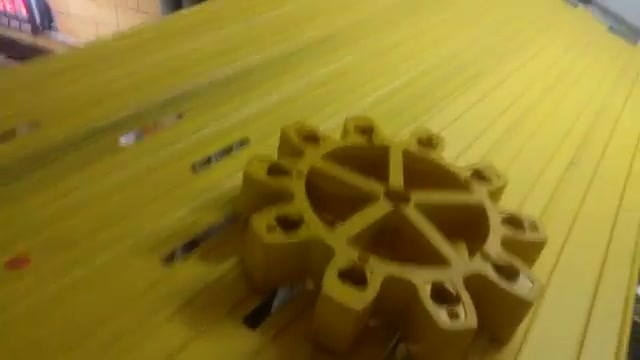gear: (229, 97, 561, 360)
